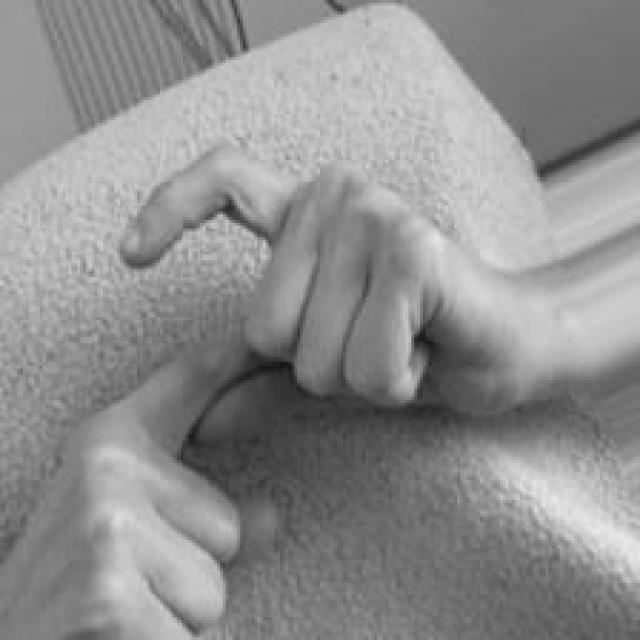S: (1, 136, 490, 640)
